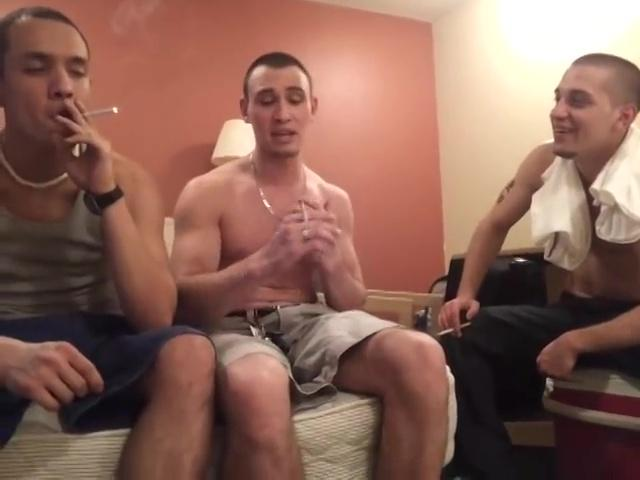cigarette: (438, 320, 473, 335), (81, 106, 120, 119), (299, 200, 311, 225)
